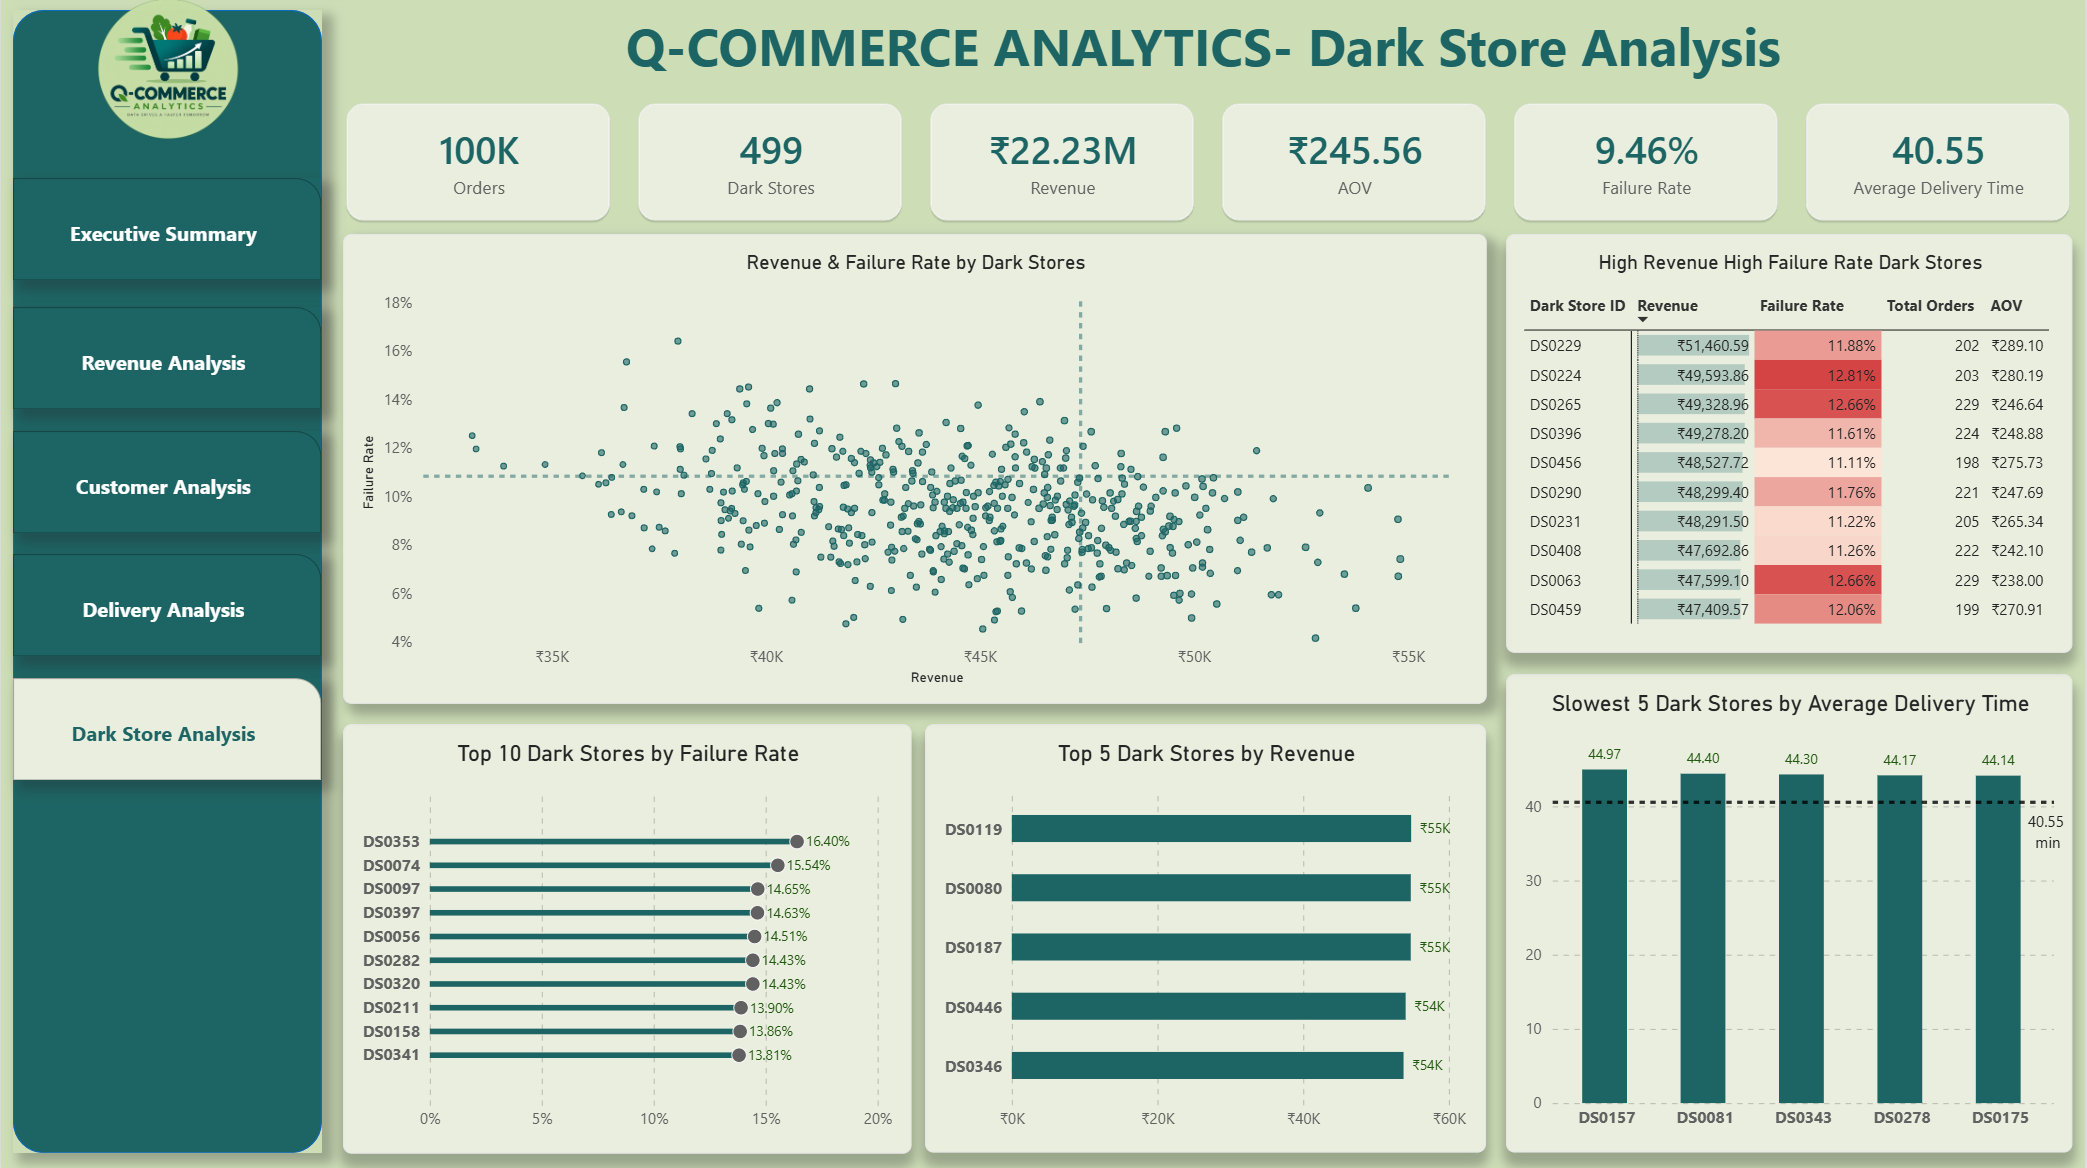

The dashboard page shown, as its layout file describes it:
{"tool":"powerbi","page":{"name":"Dark Store Analysis","canvas":[1920,1080],"ordinal":4},"visuals":[{"type":"textbox","box":[295.8,12.9,1624.6,65.4],"z":0},{"type":"shape","box":[11.1,12.5,284.6,1053.4],"z":1000},{"type":"cardVisual","fields":{"Data":["Count(qcommerce_2015_cleaned.dark_store_id)","Measure Table.Revenue","Measure Table.AOV","Measure Table.Cancellation + Return Rate","Measure Table.Average Delivery Time"]},"box":[314.8,95.4,1594.8,114.5],"z":2000},{"type":"clusteredBarChart","title":"Top 5 Dark Stores by Revenue","fields":{"Category":["qcommerce_2015_cleaned.dark_store_id"],"Y":["Measure Table.Revenue"]},"box":[851.5,670.9,517,395.3],"z":3000},{"type":"clusteredBarChart","title":"Top 10 Dark Stores by Failure Rate","fields":{"Category":["qcommerce_2015_cleaned.dark_store_id"],"Y":["Measure Table.Cancellation + Return Rate"]},"box":[314.8,670.5,523.6,395.8],"z":4000},{"type":"clusteredColumnChart","title":"Slowest 5 Dark Stores by Average Delivery Time","fields":{"Category":["qcommerce_2015_cleaned.dark_store_id"],"Y":["Measure Table.Average Delivery Time"]},"box":[1386.9,624.8,522.5,441.4],"z":5000},{"type":"pivotTable","title":"High Revenue High Failure Rate Dark Stores","fields":{"Rows":["qcommerce_2015_cleaned.dark_store_id"],"Values":["Measure Table.Revenue","Measure Table.Cancellation + Return Rate","Measure Table.Total Orders","Measure Table.AOV"]},"box":[1386.8,219.7,522.2,386.4],"z":6000},{"type":"scatterChart","title":"Revenue & Failure Rate by Dark Stores","fields":{"Category":["qcommerce_2015_cleaned.dark_store_id"],"Size":["Measure Table.Total Orders"],"X":["Measure Table.Revenue"],"Y":["Measure Table.Cancellation + Return Rate"]},"box":[314.8,219.4,1053.9,433],"z":7000},{"type":"textbox","box":[1863.3,751,46.1,38.7],"z":8000},{"type":"shape","title":"Executive Summery","box":[11.4,167.8,284.2,94.4],"z":8001},{"type":"shape","box":[11.4,286.6,284.2,94.4],"z":8002},{"type":"shape","box":[11.4,628.5,284.2,94.4],"z":8003},{"type":"shape","box":[11.4,400.5,284.2,94.4],"z":8004},{"type":"shape","box":[11.4,514.5,284.2,94.4],"z":8005},{"type":"image","box":[68.7,0,169.8,135.4],"z":8006}]}

Visuals, with their boxes on the page's 1920x1080 design canvas (x1, y1, x2, y2). These are canvas units, not pixel positions in the 2087x1168 screenshot, which may show the page scaled, cropped or inside an application window:
textbox: bbox=[296, 13, 1920, 78]
shape: bbox=[11, 12, 296, 1066]
cardVisual - Count(qcommerce_2015_cleaned.dark_store_id) x Measure Table.Revenue: bbox=[315, 95, 1910, 210]
"Top 5 Dark Stores by Revenue" clusteredBarChart: bbox=[852, 671, 1368, 1066]
"Top 10 Dark Stores by Failure Rate" clusteredBarChart: bbox=[315, 670, 838, 1066]
"Slowest 5 Dark Stores by Average Delivery Time" clusteredColumnChart: bbox=[1387, 625, 1909, 1066]
"High Revenue High Failure Rate Dark Stores" pivotTable: bbox=[1387, 220, 1909, 606]
"Revenue & Failure Rate by Dark Stores" scatterChart: bbox=[315, 219, 1369, 652]
textbox: bbox=[1863, 751, 1909, 790]
"Executive Summery" shape: bbox=[11, 168, 296, 262]
shape: bbox=[11, 287, 296, 381]
shape: bbox=[11, 628, 296, 723]
shape: bbox=[11, 400, 296, 495]
shape: bbox=[11, 514, 296, 609]
image: bbox=[69, 0, 238, 135]
